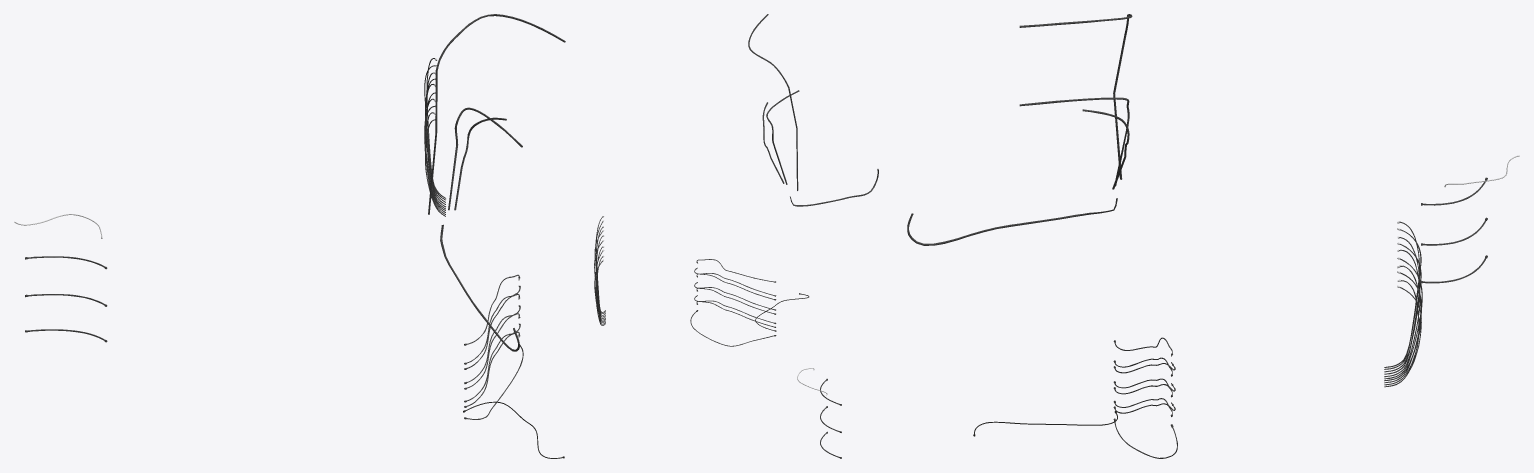
Rendered from peijian096-geode.glb.
3 renders of one model, left to right at view 1: azimuth 30°, elevation 25°; view 2: azimuth 150°, elevation 25°; view 3: azimuth 270°, elevation 25°, orthographic. The views are drawn at different scales.
Parts seen in each view (by area): view 1: Node; view 2: Node; view 3: Node.
Part boxes in pixels (x1,y1,x2,y2): Node: [14, 14, 565, 458]; Node: [594, 14, 878, 458]; Node: [907, 14, 1519, 458].
Bounding box in the file's own units: 4.56 × 4.8 × 6.09.
Materials: 4 (4 with a texture image).
